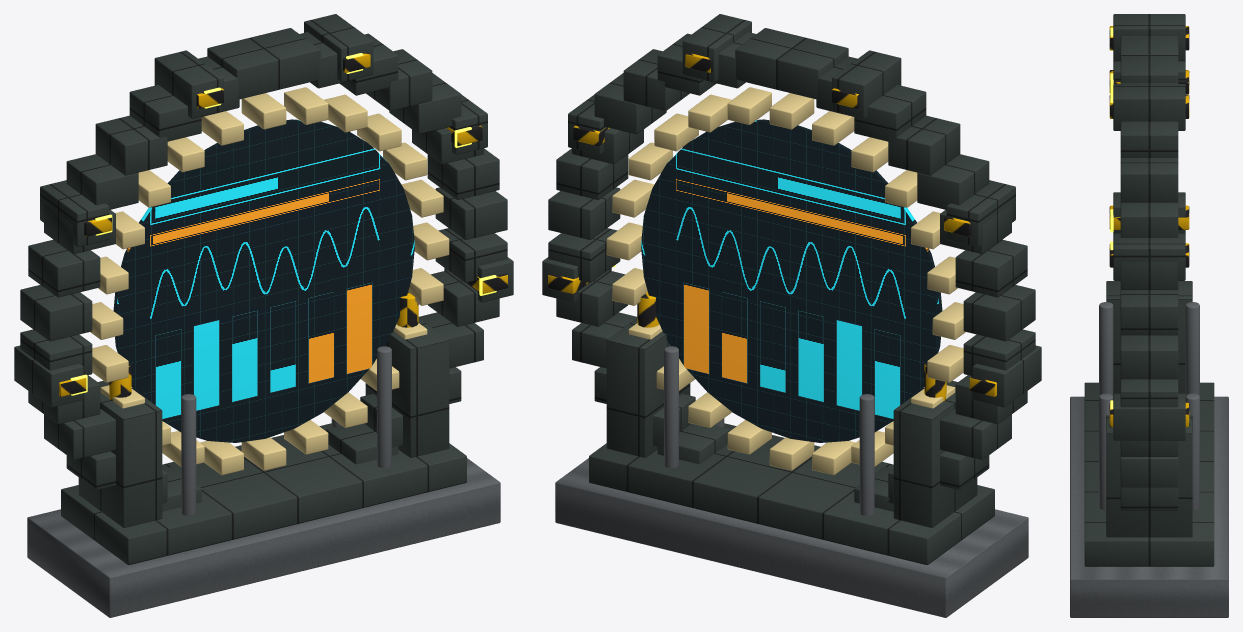
File: WK_HERO_PORTAL_RING_A_01.glb
3 renders of one model, left to right at view 1: azimuth 30°, elevation 25°; view 2: azimuth 150°, elevation 25°; view 3: azimuth 270°, elevation 25°, orthographic. The views are drawn at different scales.
Visible parts, largest first — view 1: WK_HERO_PORTAL_RING_A_01; view 2: WK_HERO_PORTAL_RING_A_01; view 3: WK_HERO_PORTAL_RING_A_01.
Part boxes in pixels (x1=…): WK_HERO_PORTAL_RING_A_01: x1=14, y1=14, x2=513, y2=617; WK_HERO_PORTAL_RING_A_01: x1=542, y1=14, x2=1041, y2=617; WK_HERO_PORTAL_RING_A_01: x1=1070, y1=14, x2=1228, y2=617.
Size of the model in its own units: 7.1 by 7.21 by 2.2.
7 materials, 4 textured.
